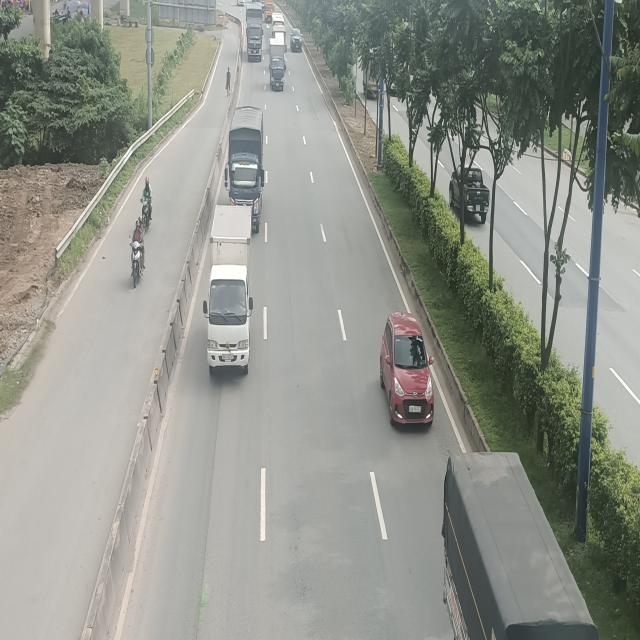car: (379, 311, 434, 427), (290, 26, 303, 53)
truck: (203, 202, 253, 376), (223, 106, 264, 234), (246, 5, 264, 63), (269, 37, 286, 90)
